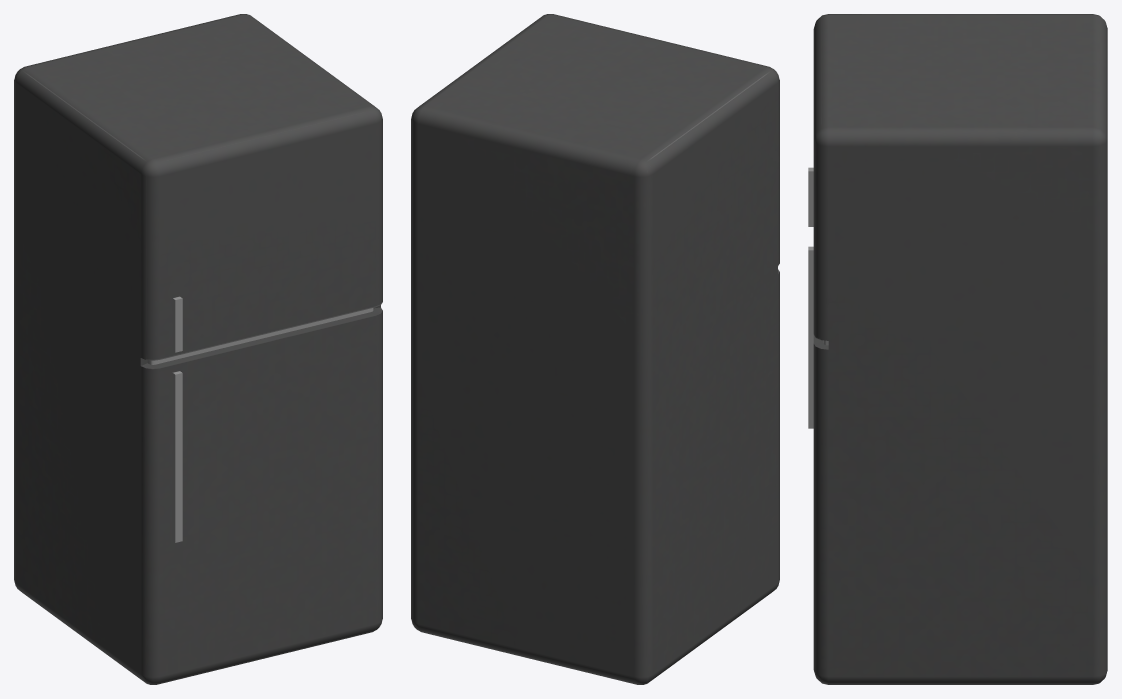
The model's file is Fridge.fbx.
The picture shows the model from 3 angles, left to right: view 1: azimuth 30°, elevation 25°; view 2: azimuth 150°, elevation 25°; view 3: azimuth 270°, elevation 25°; orthographic projection. The views are drawn at different scales.
Parts seen in each view (by area): view 1: Fridge; view 2: Fridge; view 3: Fridge.
Part boxes in pixels (box(x1,y1,x2,y2)): Fridge: box(14, 14, 382, 684); Fridge: box(411, 14, 779, 684); Fridge: box(808, 14, 1107, 684).
Bounding box in the file's own units: 478 × 999 × 487.
